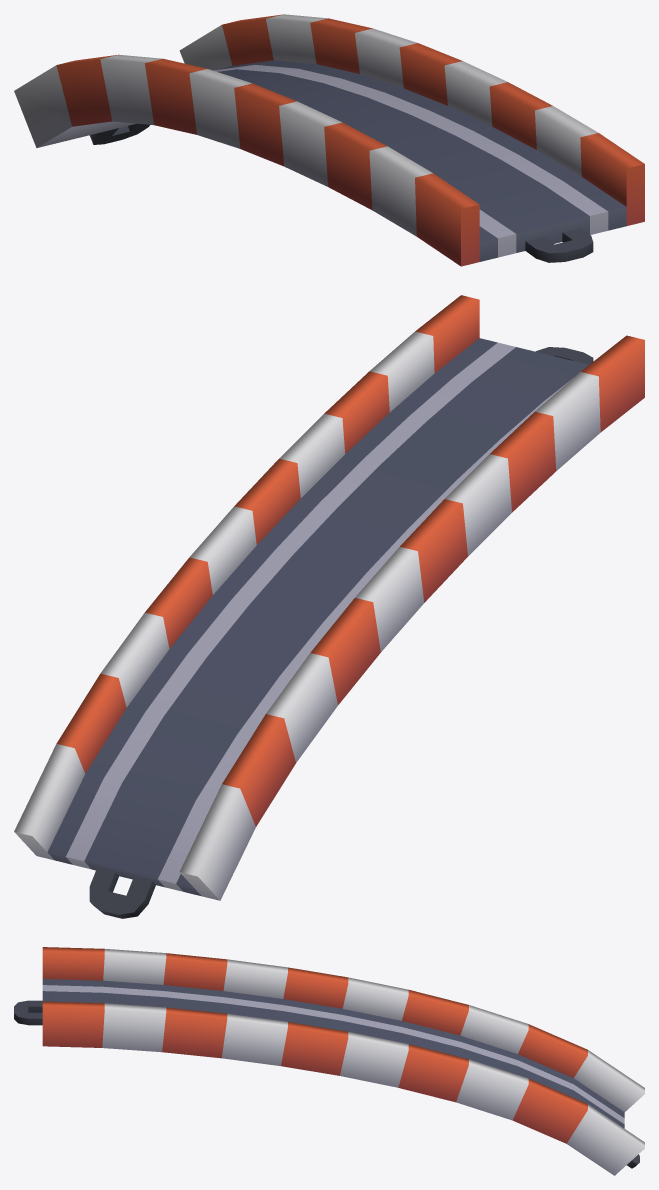
File: track-road-narrow-straight-hill-end.glb
3 views of the same model, one above another, from view 1: azimuth 30°, elevation 25°; view 2: azimuth 150°, elevation 25°; view 3: azimuth 270°, elevation 25° (orthographic). The views are drawn at different scales.
Visible parts, largest first — view 1: track-road-narrow-straight-hill-end; view 2: track-road-narrow-straight-hill-end; view 3: track-road-narrow-straight-hill-end.
Boxes of the visible parts, box(x1,y1,x2,y2) form: track-road-narrow-straight-hill-end: box(14, 14, 644, 266); track-road-narrow-straight-hill-end: box(14, 295, 644, 918); track-road-narrow-straight-hill-end: box(14, 947, 644, 1175).
Bounding box in the file's own units: 1 × 1.44 × 4.41.
